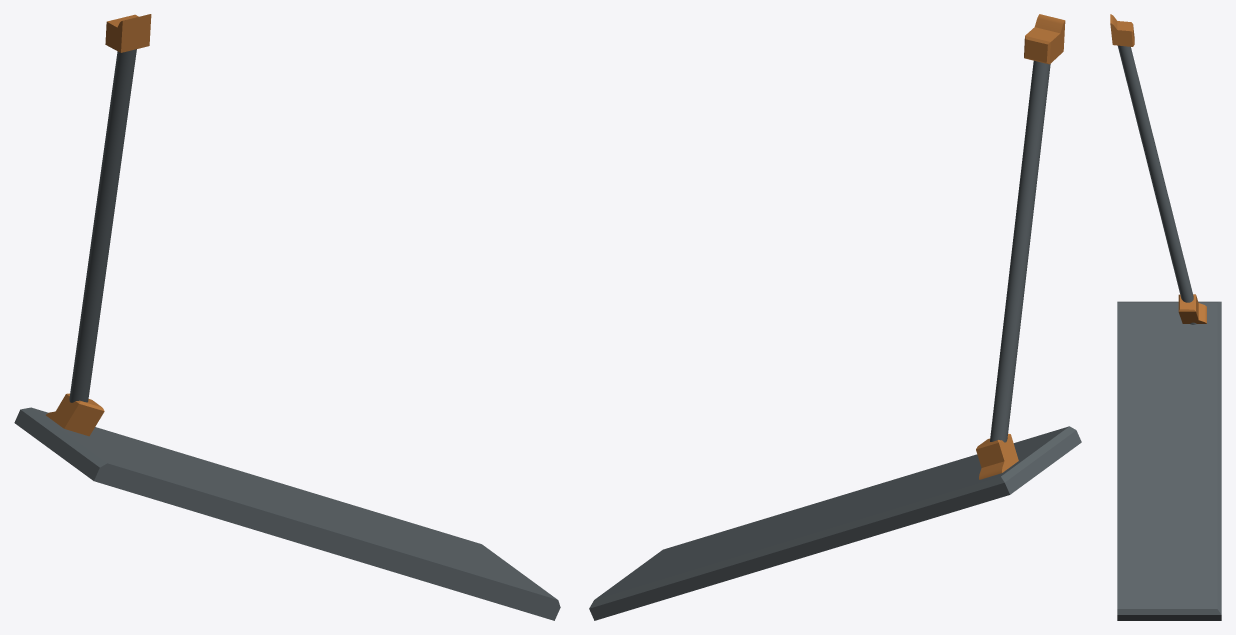
File: STM_CellarChair_1.fbx
The picture shows the model from 3 angles, left to right: view 1: azimuth 30°, elevation 25°; view 2: azimuth 150°, elevation 25°; view 3: azimuth 270°, elevation 25°; orthographic projection. The views are drawn at different scales.
Parts seen in each view (by area): view 1: polySurface62; view 2: polySurface62; view 3: polySurface62.
Part boxes in pixels (x1=…): polySurface62: x1=14, y1=14, x2=560, y2=620; polySurface62: x1=589, y1=14, x2=1081, y2=620; polySurface62: x1=1110, y1=14, x2=1221, y2=620.
Size of the model in its own units: 1.42 by 2.06 by 0.4464.
